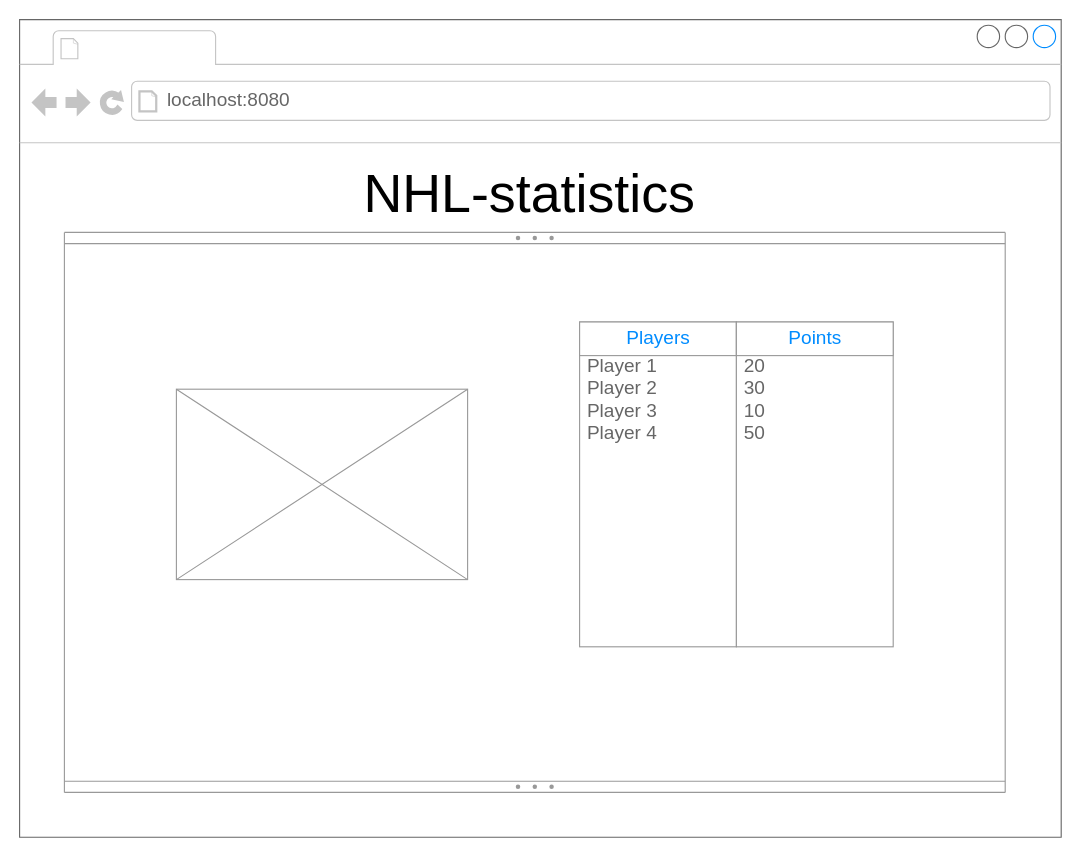
The diagram is 1081 pixels wide and 857 high, and some of its shapes have lost their labels. The centre of each missing label's shape, as x and y in pixels:
image: point 321,484
NHL-Players: point 148,47
